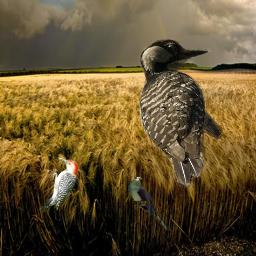Cuckoo: (128, 176, 170, 231)
Woodpecker: (139, 38, 226, 190), (37, 155, 78, 215)
